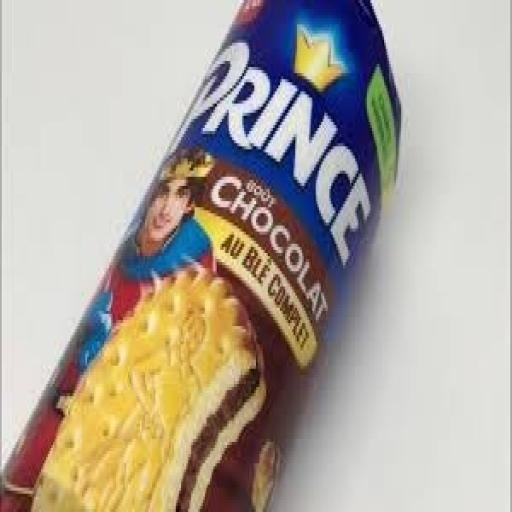prince: (29, 0, 411, 512)
